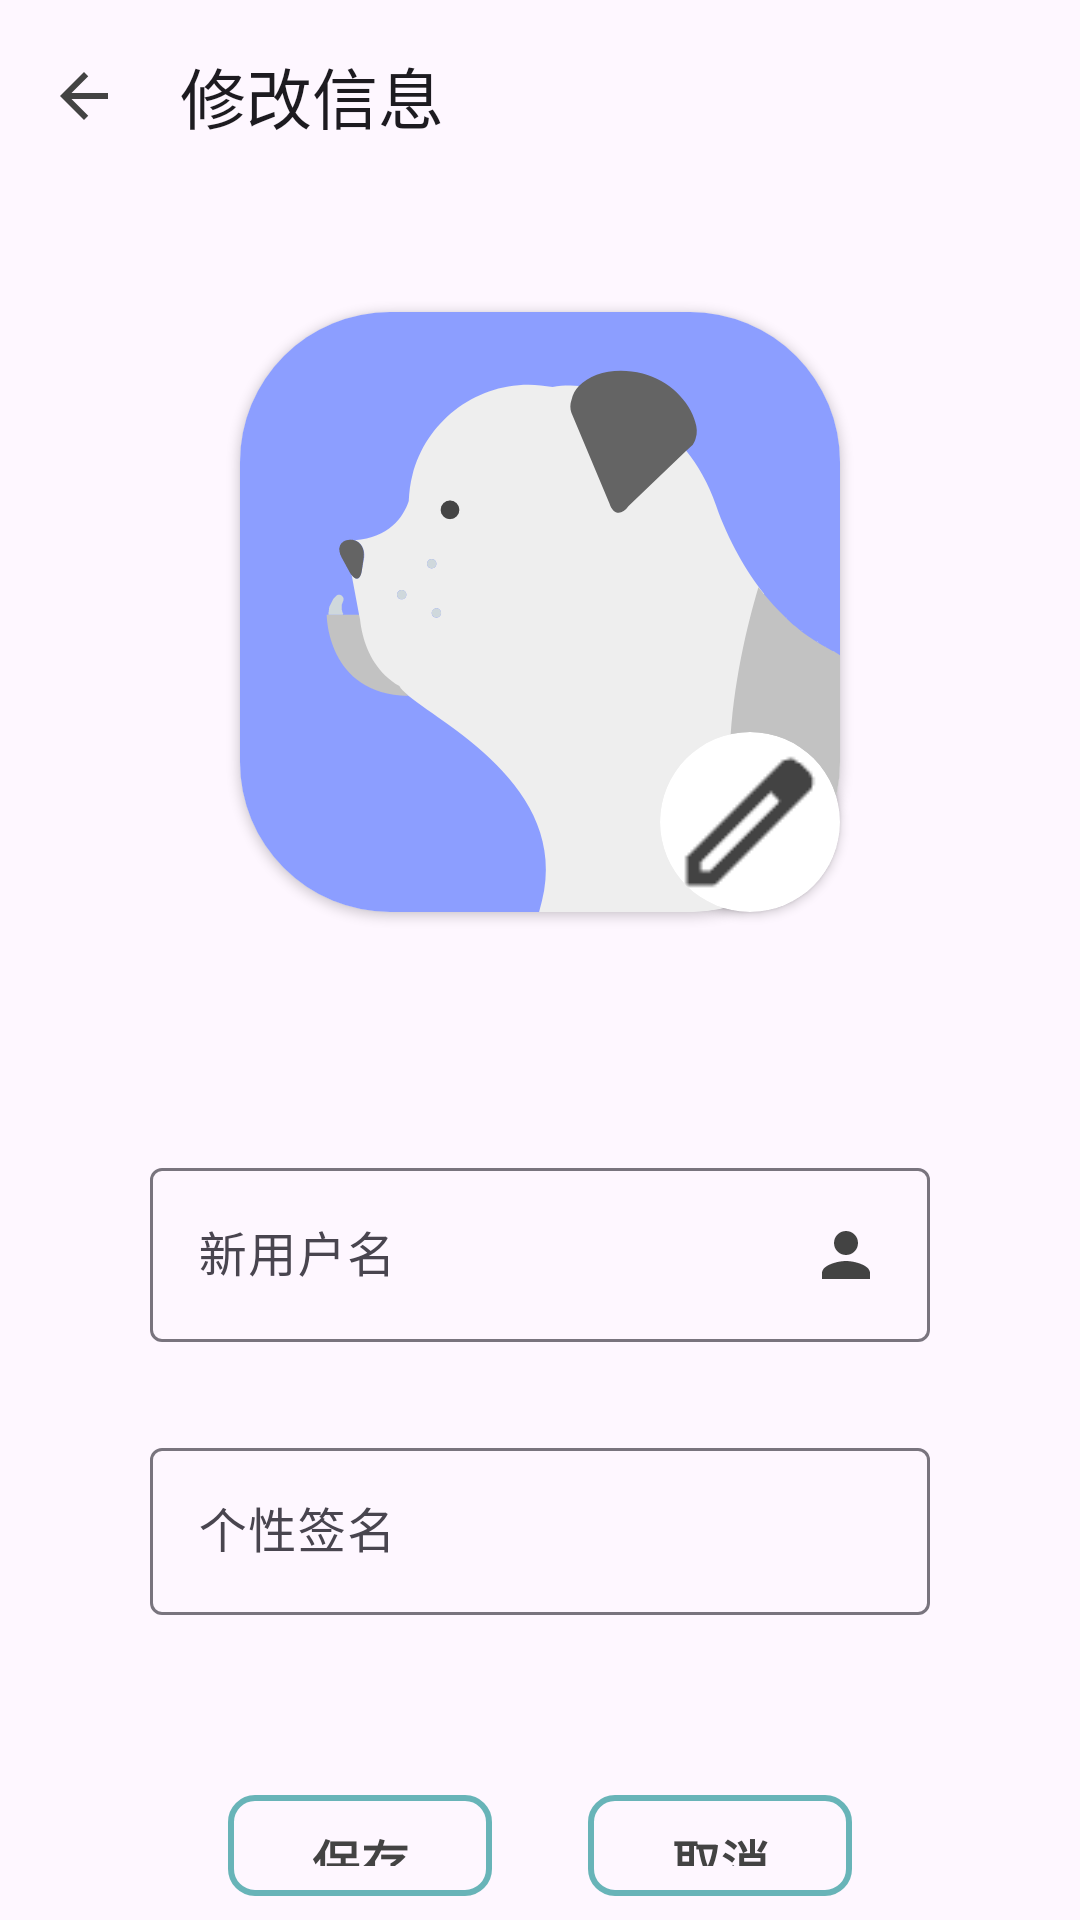

Icon bounding boxes for this 1080px x 1920px phone screenshot, format (x1, y1, x2, y2):
edit: (660, 732, 840, 912)
